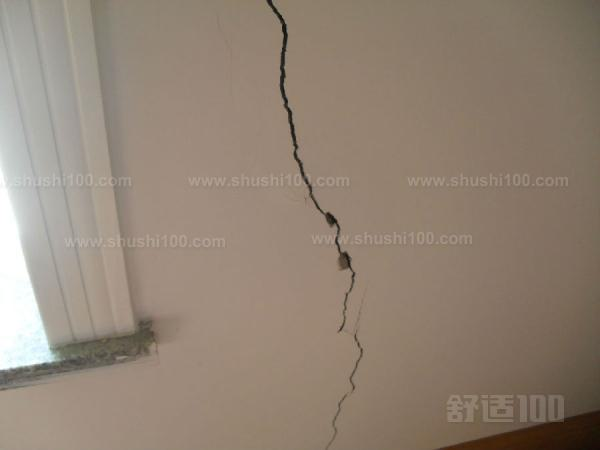Crack: (266, 1, 365, 450)
